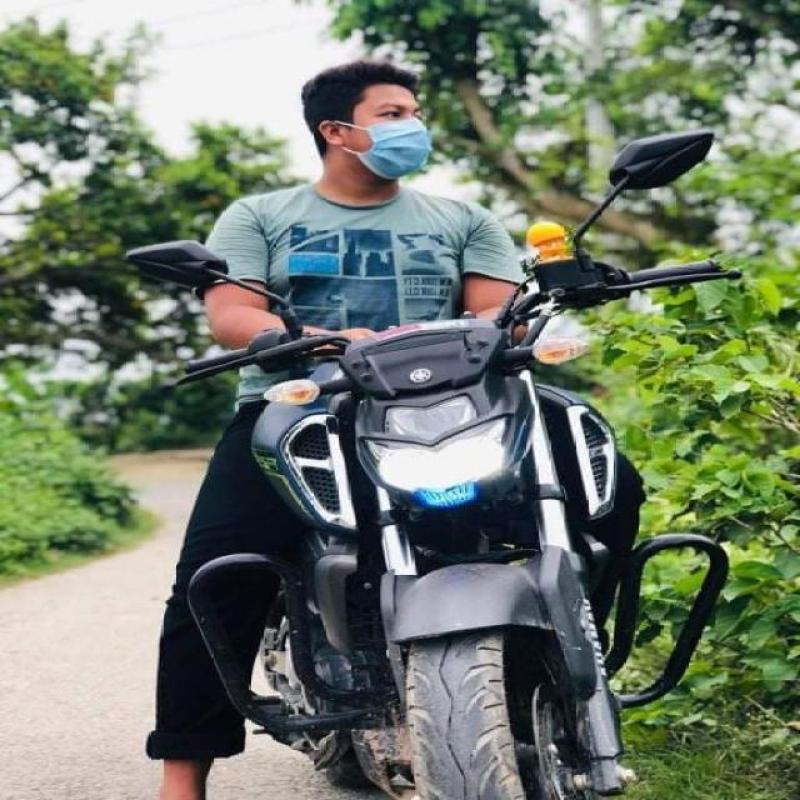nohelmet: (289, 60, 450, 189)
